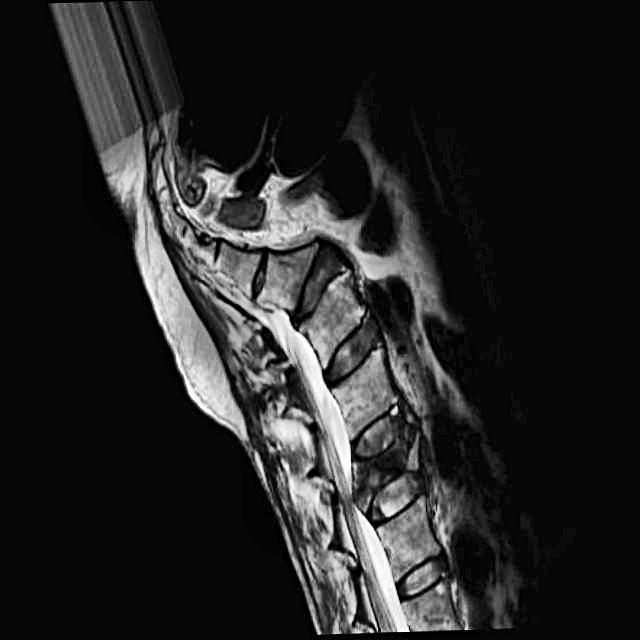Comminuted: (343, 399, 435, 537)
